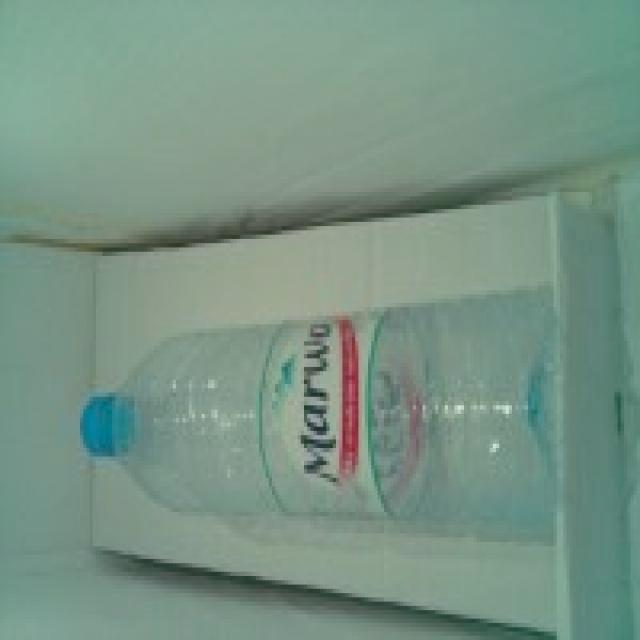bottle: (79, 286, 556, 542)
